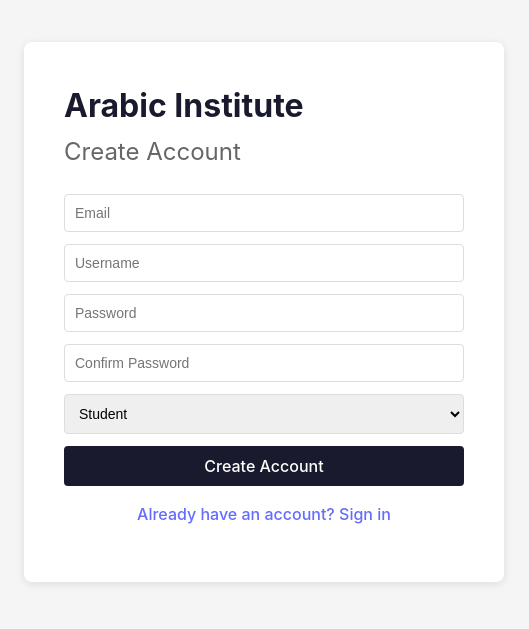
Scenario: RegisterPage › shows error when passwords do not match
Type "test@test.com" into the field with placeholder "Email". click: (264,213)
box: [64,194,464,232]
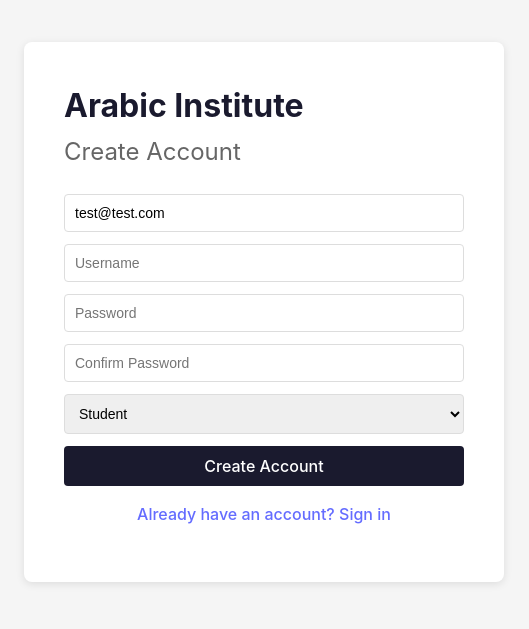
Type "testuser" into the field with placeholder "Username". click: (264,263)
box: [64,244,464,282]
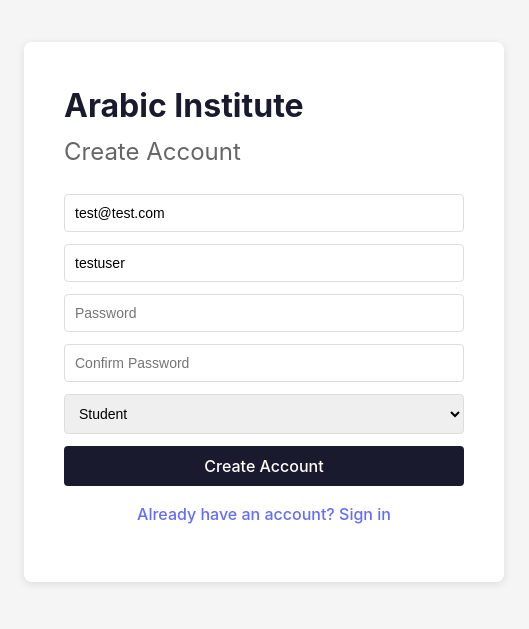
Type "Pass123!" into the password field with placeholder "Password". click: (264,313)
box: [64,294,464,332]
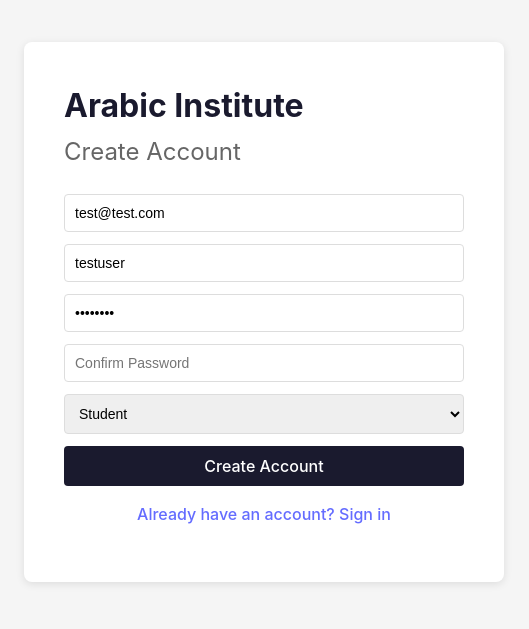
Type "Wrong123!" into the password field with placeholder "Confirm Password". click: (264,363)
box: [64,344,464,382]
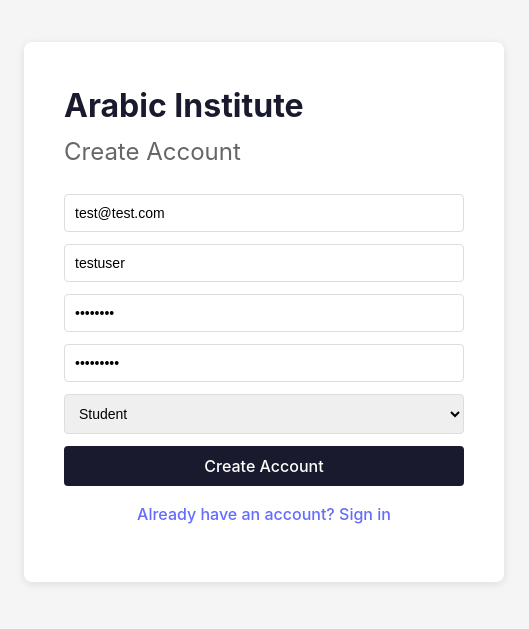
Click the button "Create Account". click: (264,466)
box: [64,446,464,486]
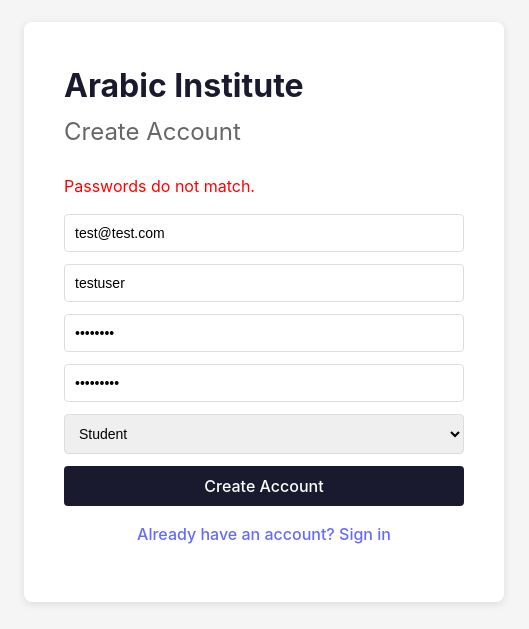
Now the text "Passwords do not match." is shown, box [64,176,255,196]
